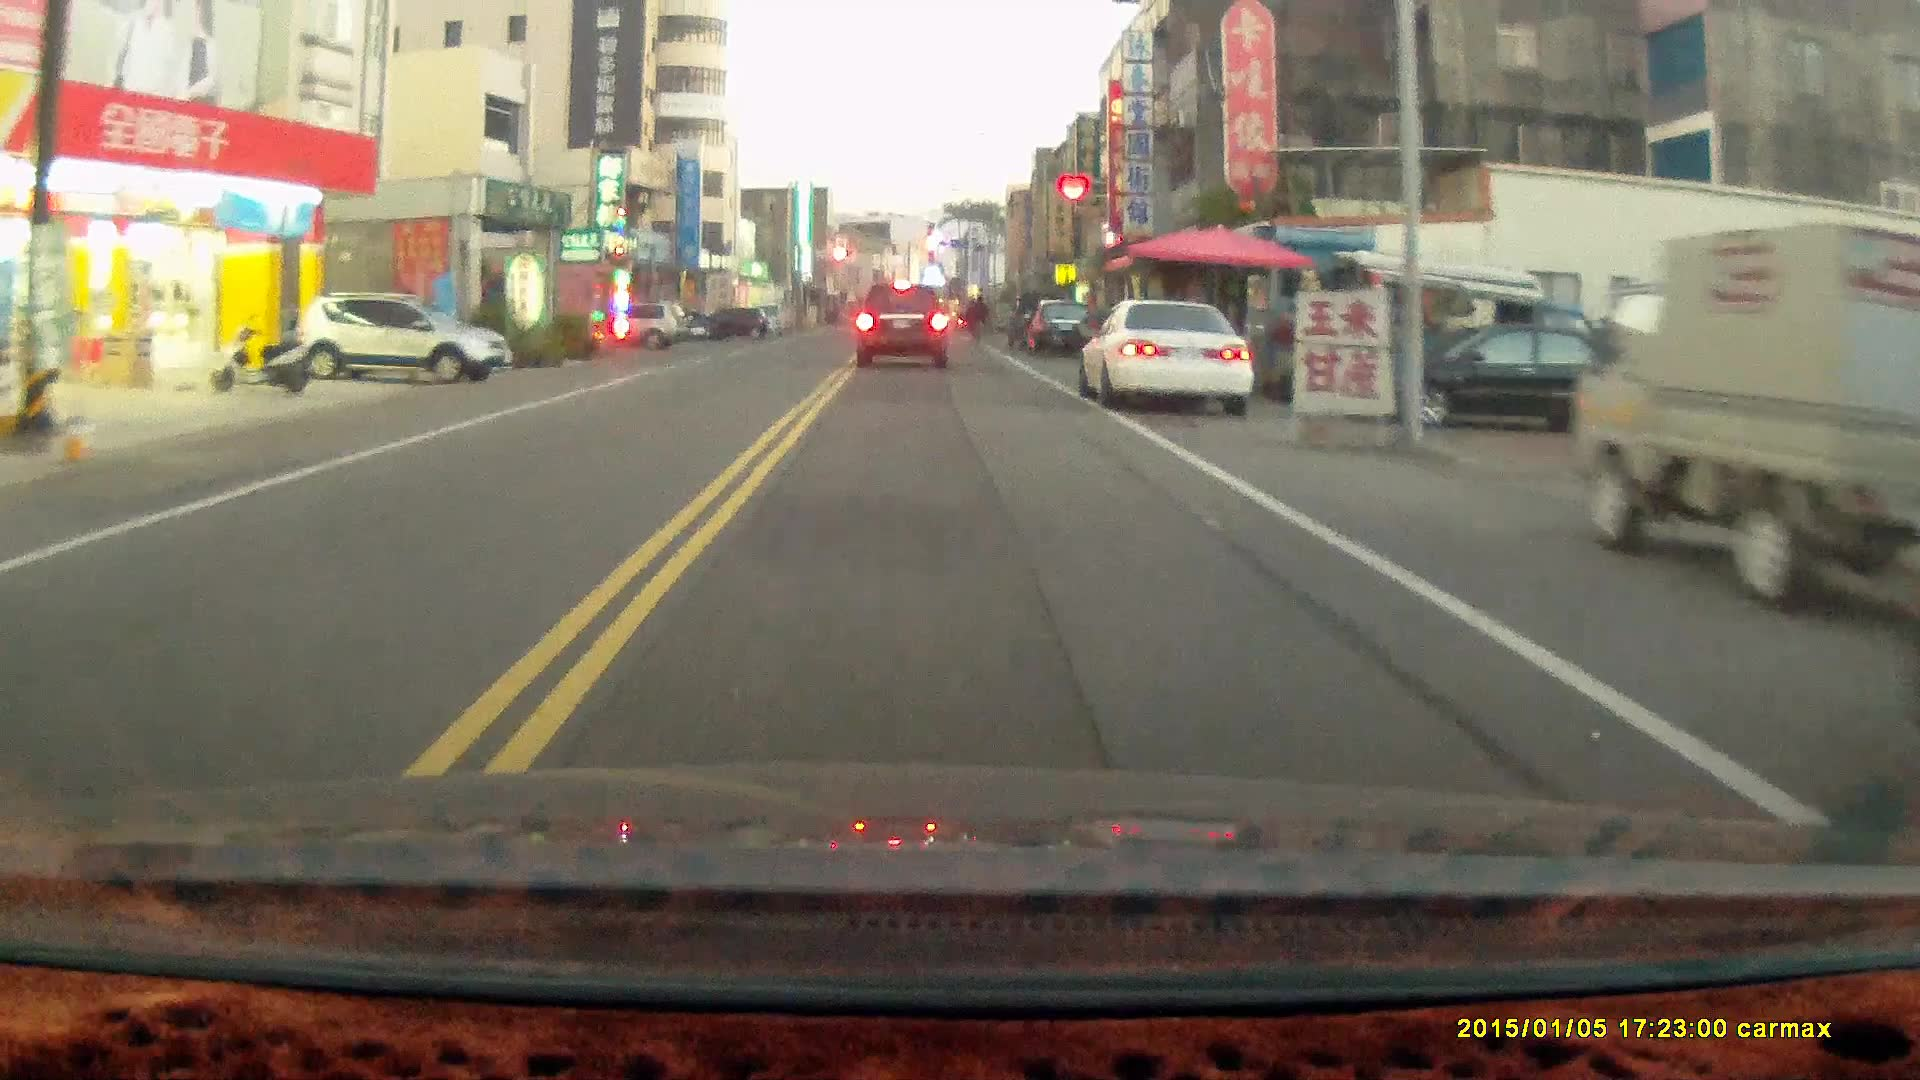rider: (967, 294, 988, 343)
vehicle: (1576, 219, 1920, 623), (1353, 315, 1672, 441), (1083, 297, 1257, 420), (287, 292, 507, 387), (852, 281, 952, 373), (593, 298, 691, 346), (1025, 301, 1098, 358)
